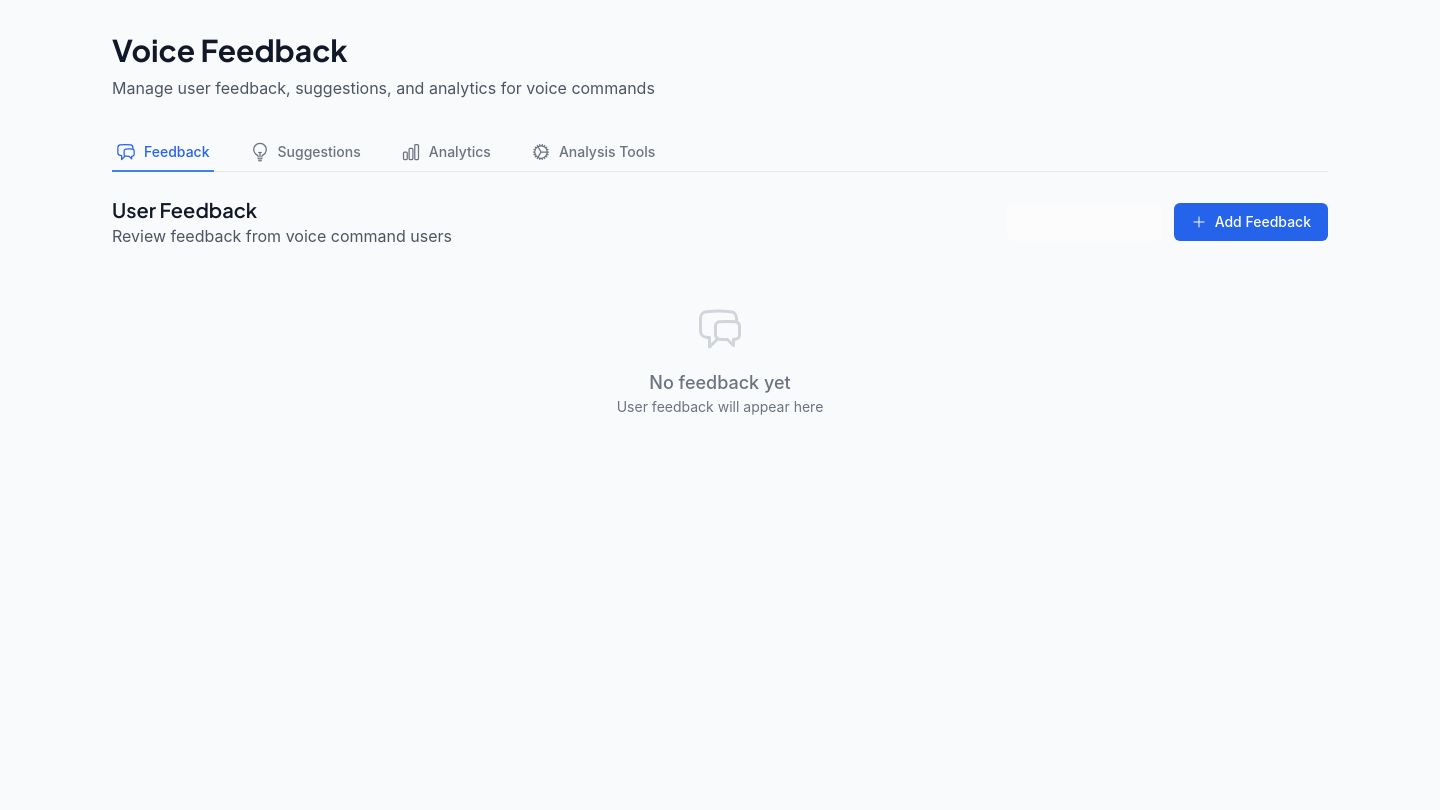
VoiceFeedback Page › displays feedback analysis tools
Switch to Analysis Tools tab
What coordinates should you click on to do the following:
click the button "Analysis Tools"
I would click on:
 (593, 153)
Its box is [527,134,659,172].
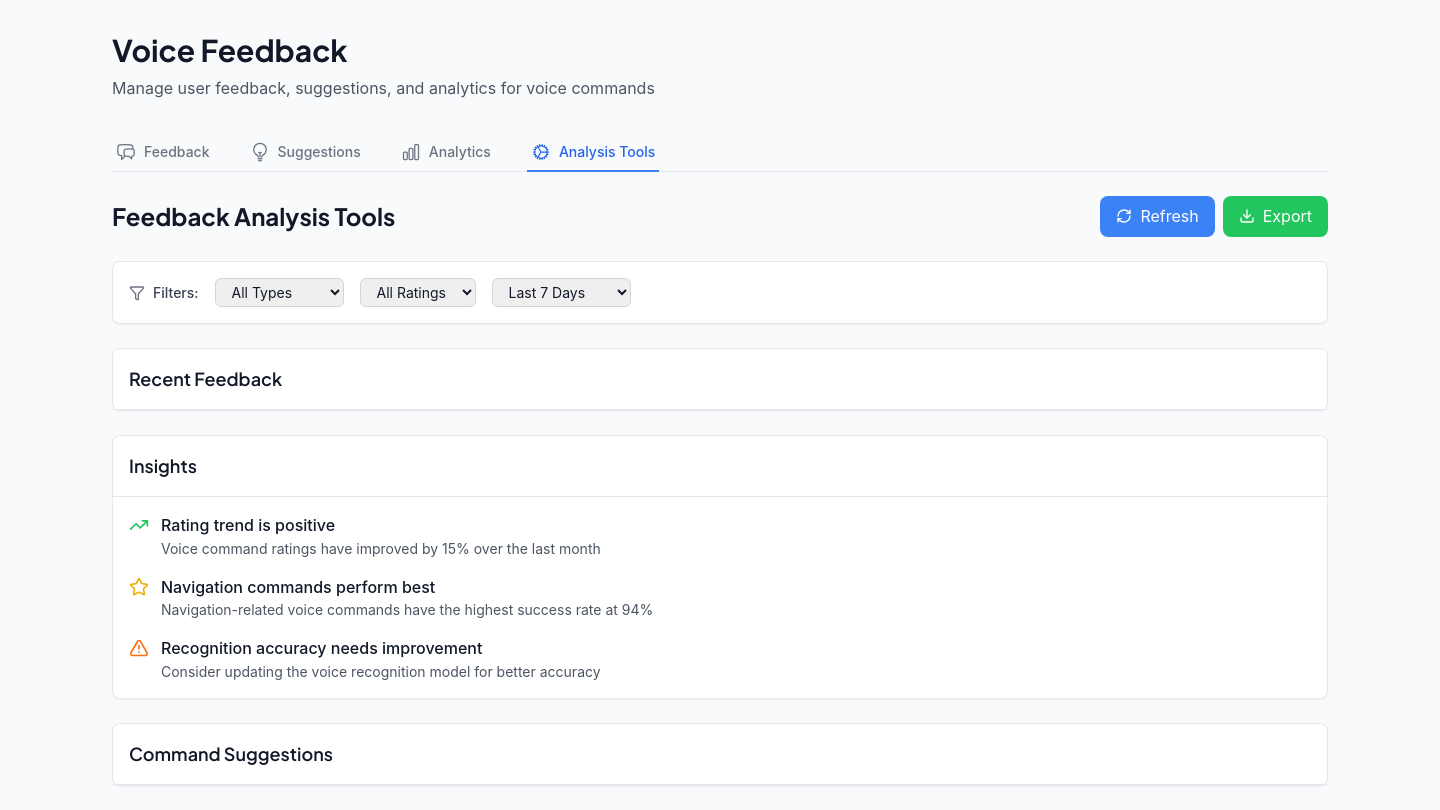
Expected: the element with test id "feedback-analysis-tools" is shown
